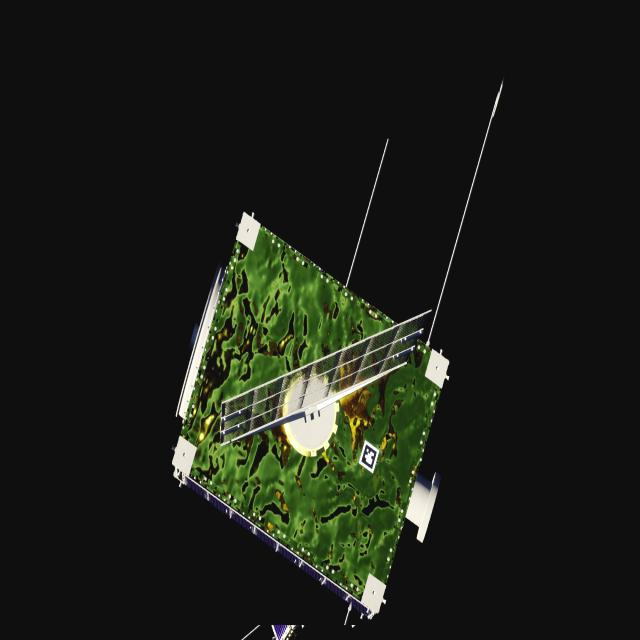medium_debris: (172, 214, 446, 625)
